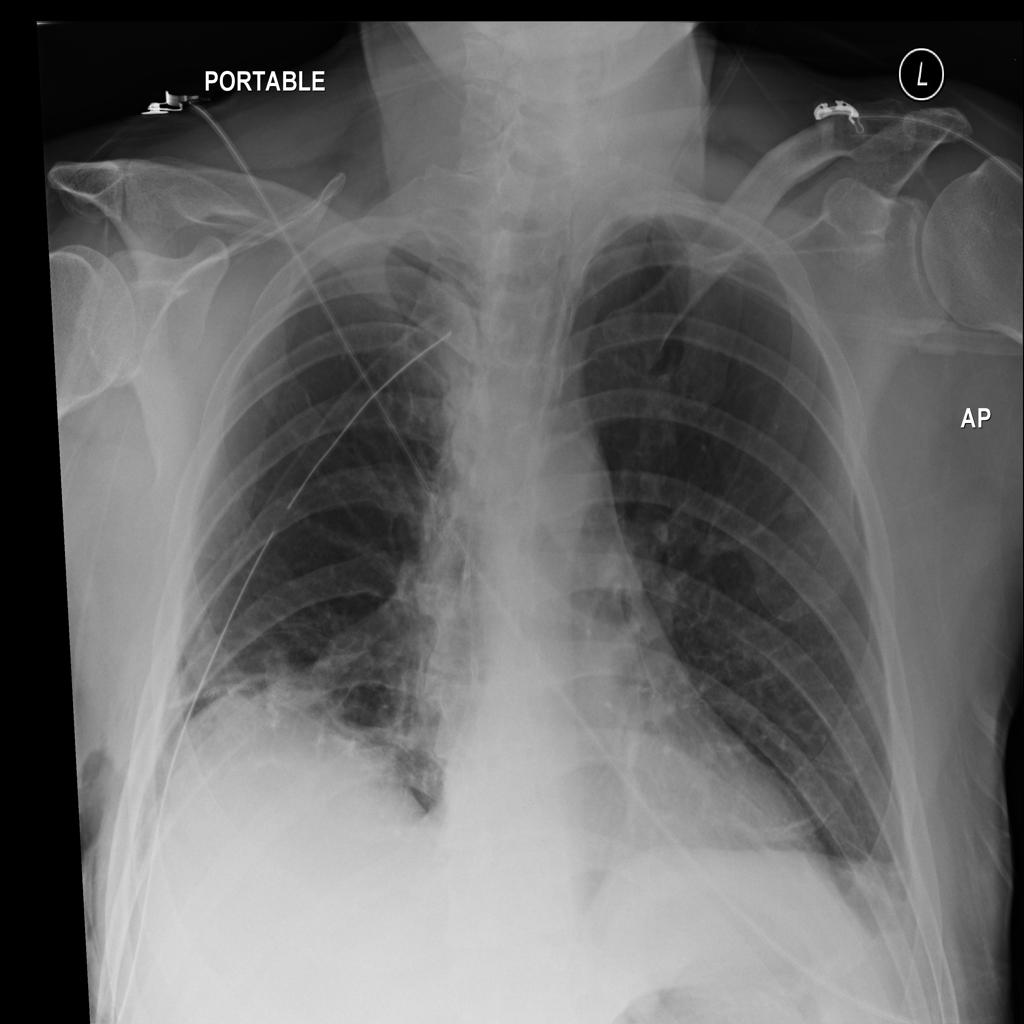nodule: (766, 464, 828, 545)
